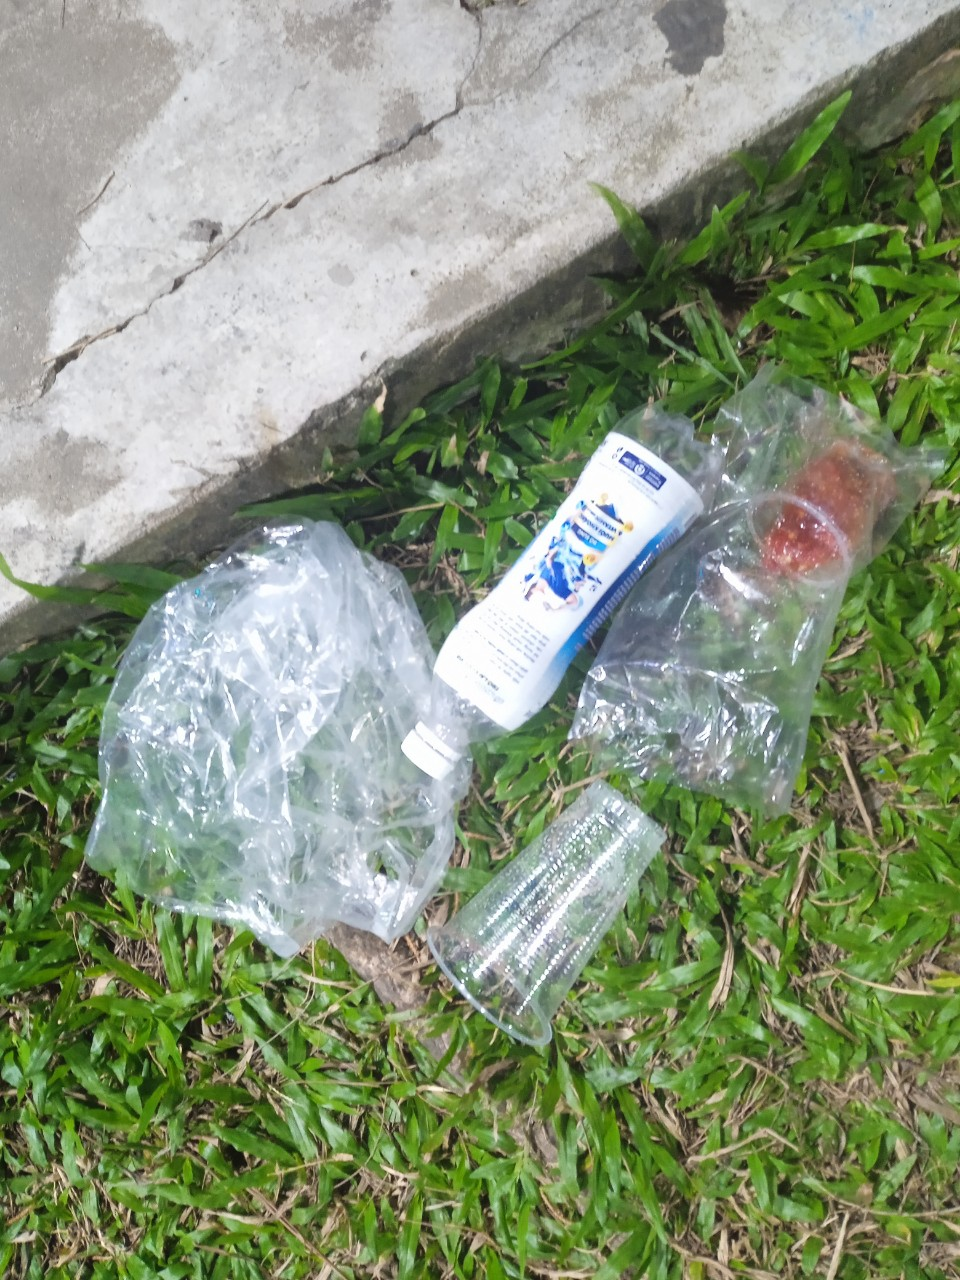plastic: (399, 402, 709, 768), (429, 766, 719, 1049)
plastic bag: (47, 483, 462, 949), (571, 369, 933, 797)
